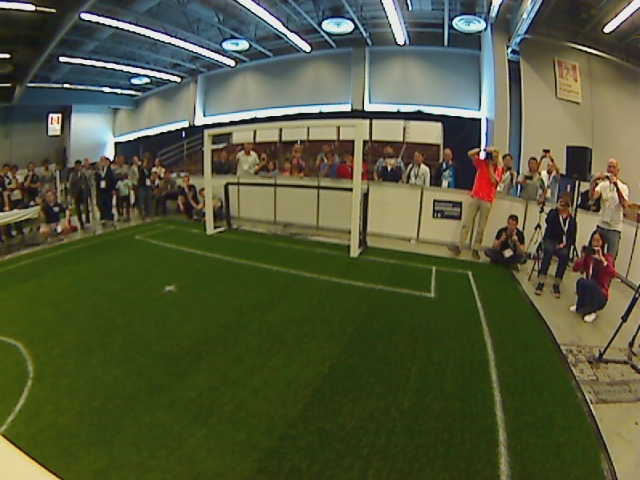ball: (164, 283, 177, 293)
